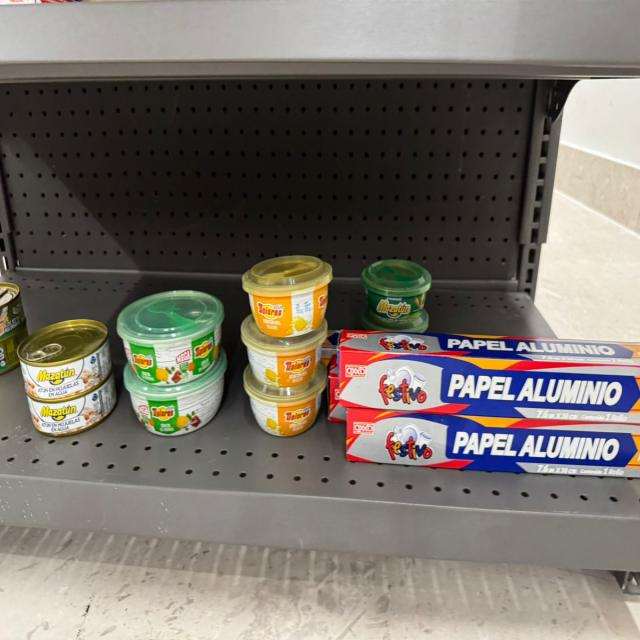ATUN DOLORES EN ACEITE 130GRS: (0, 319, 28, 376), (0, 283, 25, 341)
Atun Mazatun Agua Sin Soya 130grs: (18, 320, 113, 398), (27, 365, 118, 436)
DOLORES ENSALADA CON VERDURAS MAXI CUP CAN 240gr: (116, 291, 224, 387), (124, 348, 227, 436)
Dolores SURFY Cup Can Elotitos 24135 gr: (242, 255, 332, 337), (241, 315, 327, 388), (244, 364, 326, 436)
Ensalada Atun Mazatun CupCan: (362, 259, 433, 324), (361, 307, 428, 334)
Papel aluminio festivo rollo 76 m X 30 cm pz: (339, 331, 640, 423), (346, 408, 640, 477), (329, 354, 347, 422), (321, 332, 339, 365)
